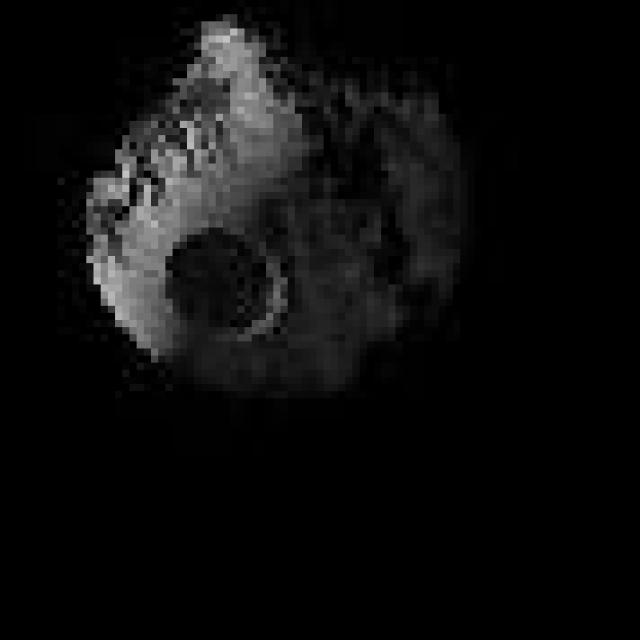Death Star: (64, 7, 474, 405)
